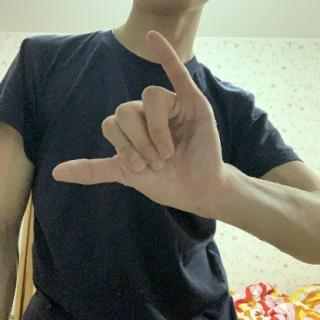YA: (44, 27, 227, 223)
